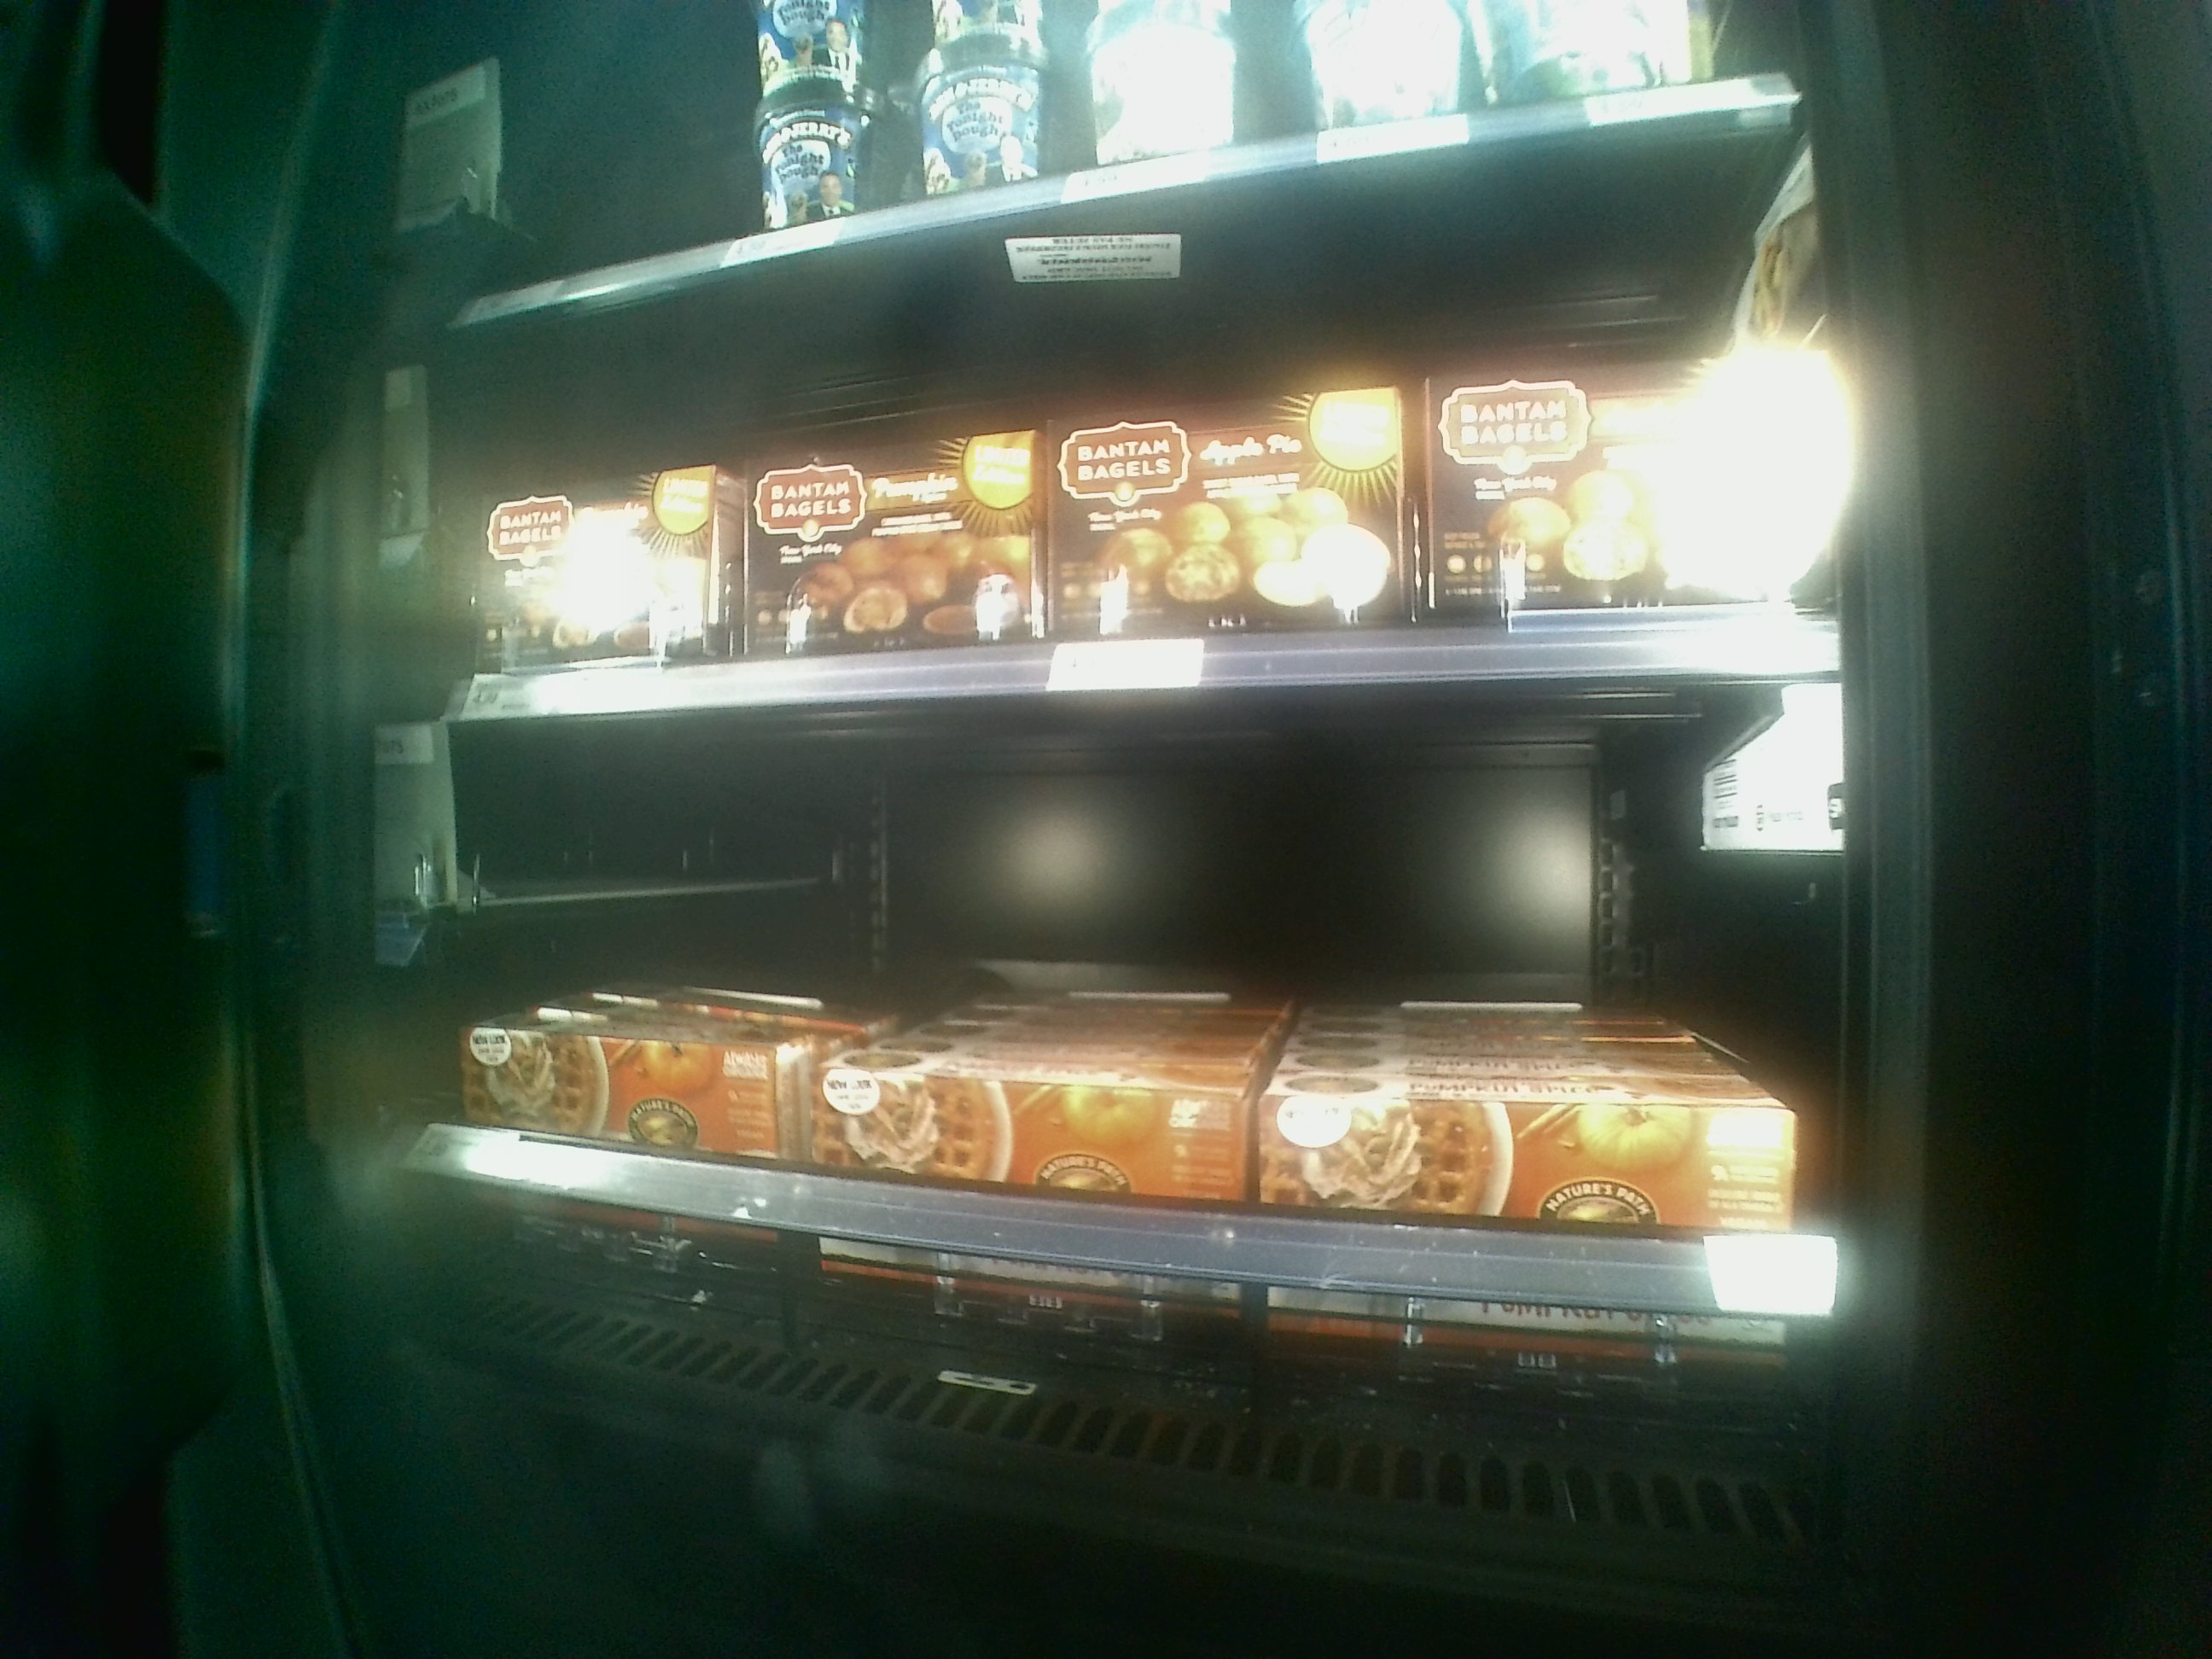shelf: (415, 673, 1855, 1556), (427, 268, 1853, 685)
